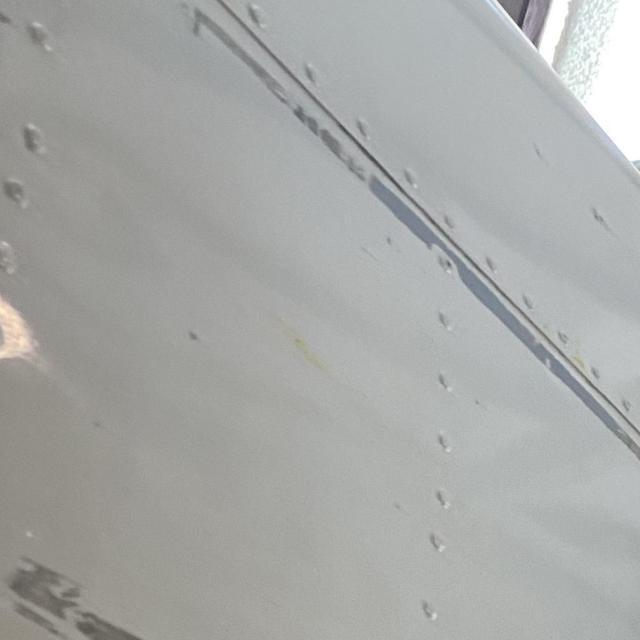Paint-off: (590, 203, 617, 234), (524, 134, 550, 160)
